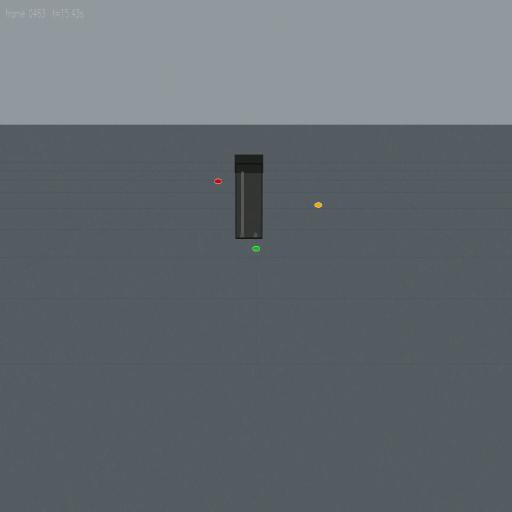bin: (234, 154, 264, 240)
